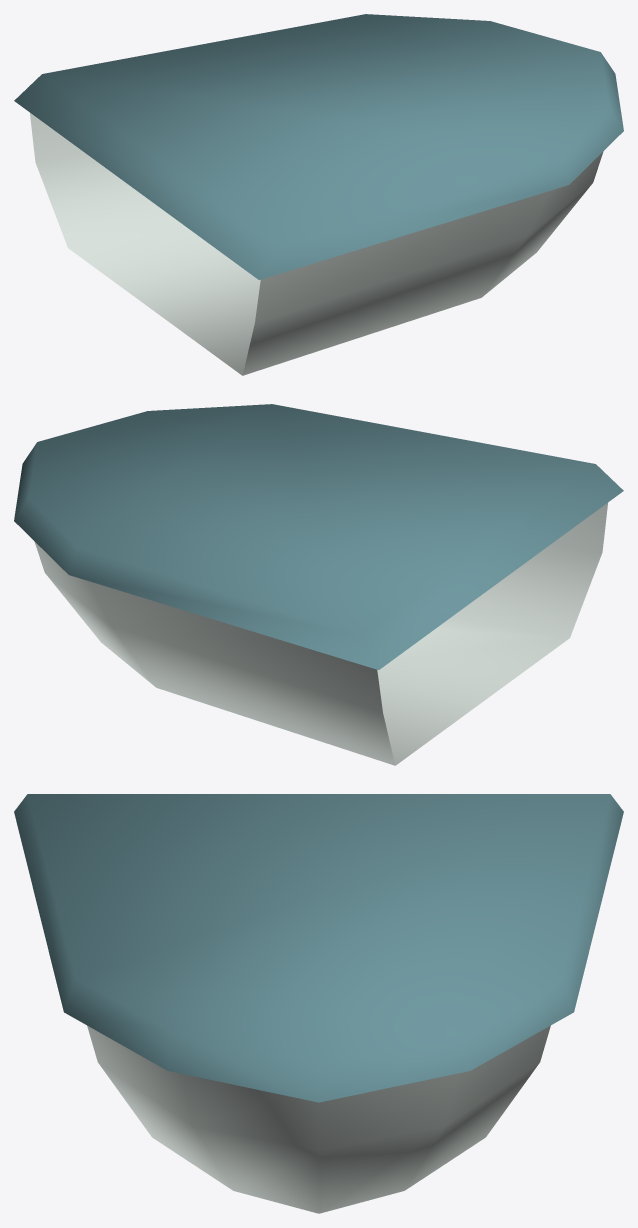
File: SM_Toilet_01.fbx
The picture shows the model from 3 angles, top to bottom: view 1: azimuth 30°, elevation 25°; view 2: azimuth 150°, elevation 25°; view 3: azimuth 270°, elevation 25°; orthographic projection. The views are drawn at different scales.
Visible parts, largest first — view 1: SM_Toilet_01; view 2: SM_Toilet_01; view 3: SM_Toilet_01.
Part boxes in pixels (box(x1,y1,x2,y2)): SM_Toilet_01: box(14, 14, 623, 375); SM_Toilet_01: box(14, 404, 623, 765); SM_Toilet_01: box(14, 794, 623, 1213).
Bounding box in the file's own units: 64.28 × 19.4 × 56.97.
1 material, 1 textured.
